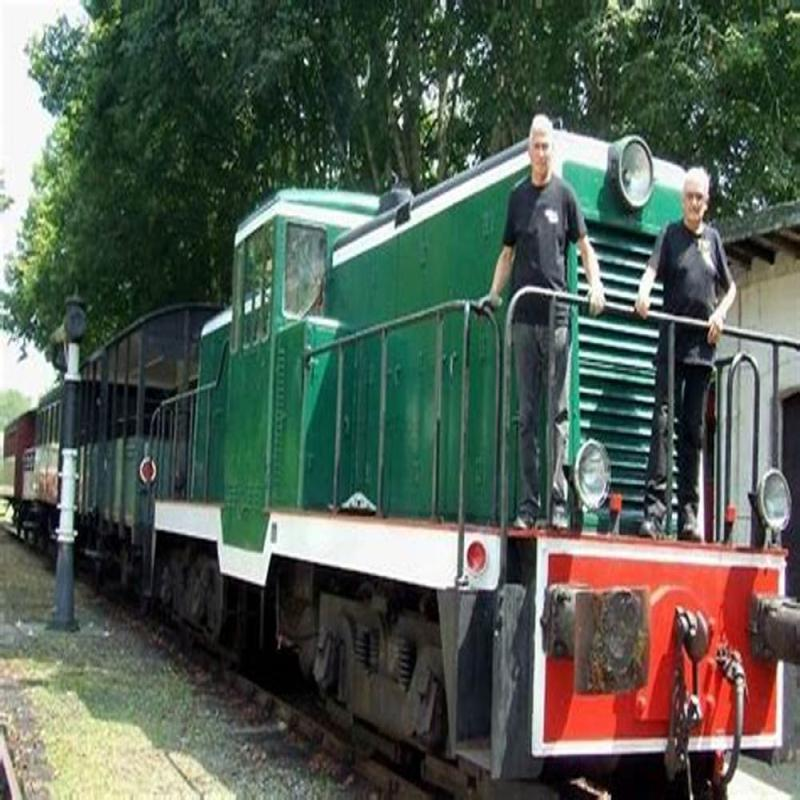train: (122, 243, 467, 678)
